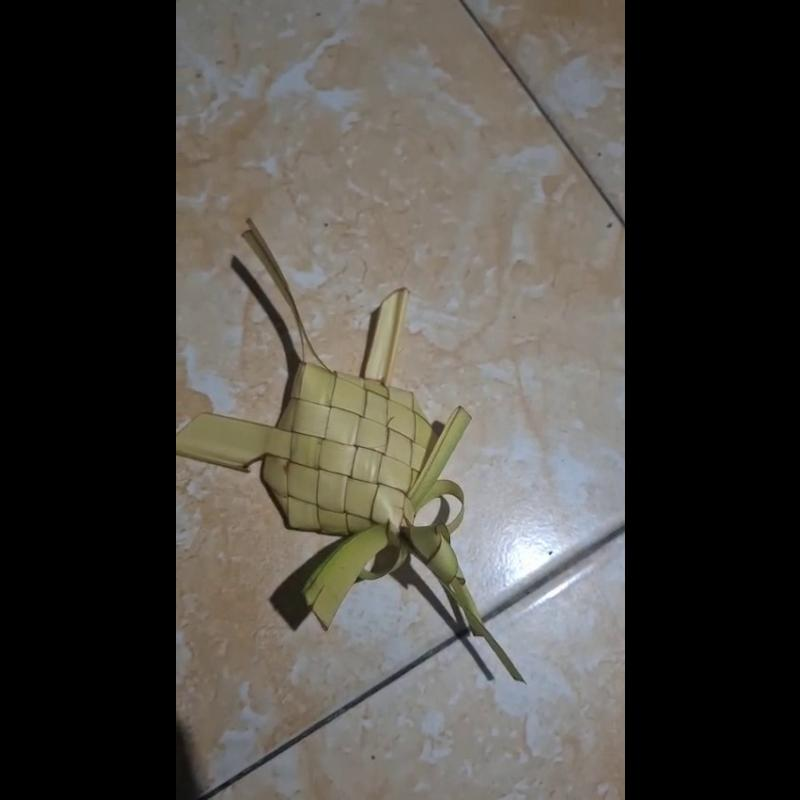Tipat Dampulan: (175, 219, 537, 687)
